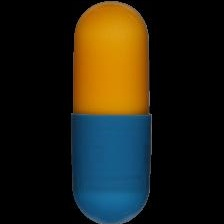0002-3239: (0, 0, 224, 224)
